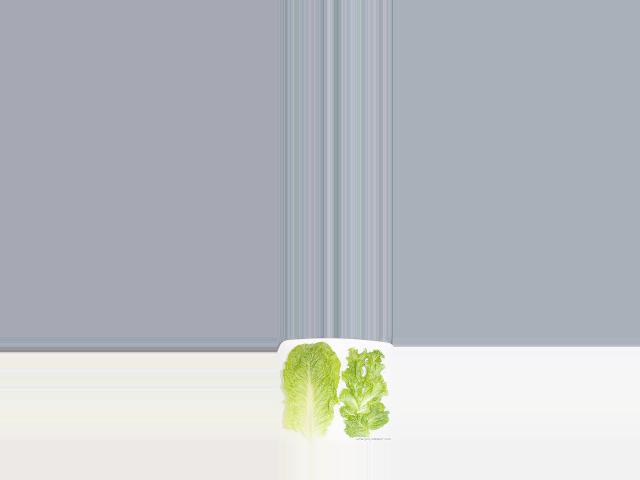lettuce: (341, 347, 394, 434)
